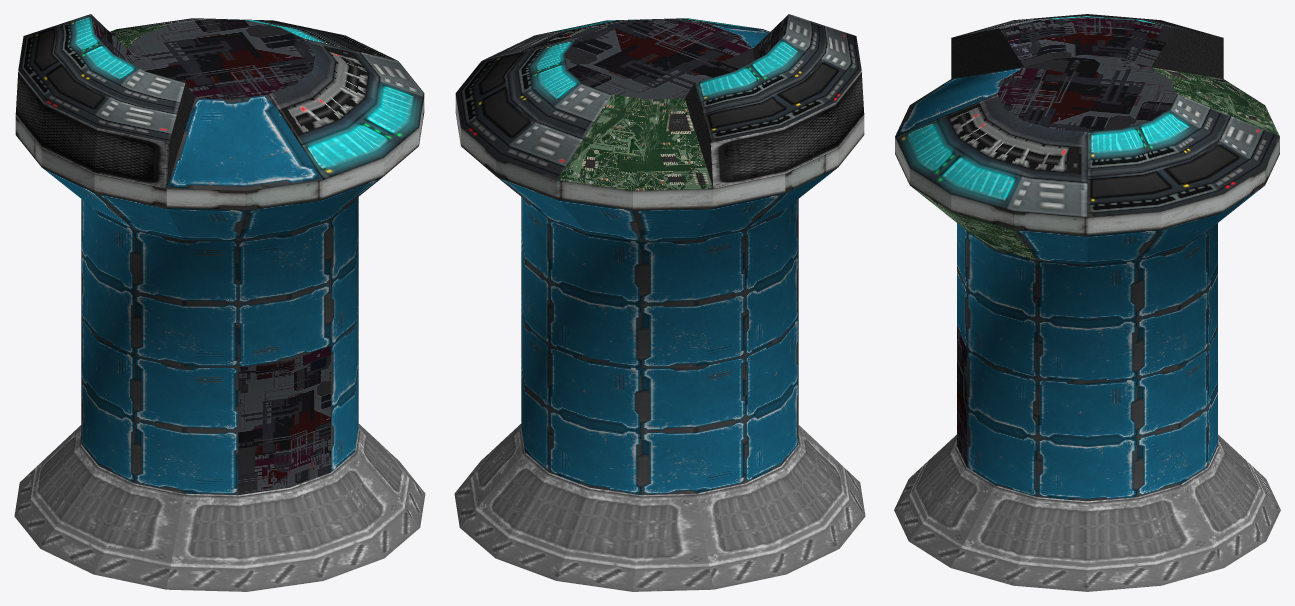
The model's file is ControlPost_01.fbx.
The picture shows the model from 3 angles, left to right: view 1: azimuth 30°, elevation 25°; view 2: azimuth 150°, elevation 25°; view 3: azimuth 270°, elevation 25°; orthographic projection. The views are drawn at different scales.
Visible parts, largest first — view 1: ControlPost_01; view 2: ControlPost_01; view 3: ControlPost_01.
Part boxes in pixels (x1,y1,x2,y2): ControlPost_01: [14, 14, 425, 591]; ControlPost_01: [454, 14, 865, 591]; ControlPost_01: [894, 14, 1280, 591].
Bounding box in the file's own units: 90.57 × 115 × 90.57.
